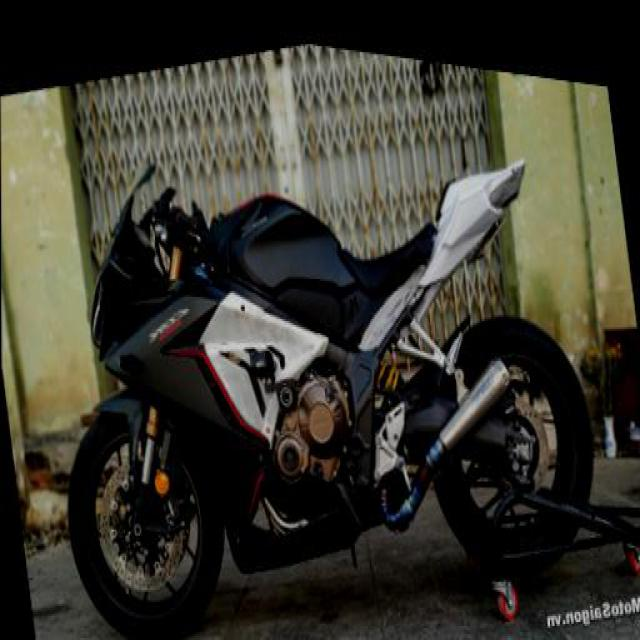CBR650R: (26, 18, 609, 638)
